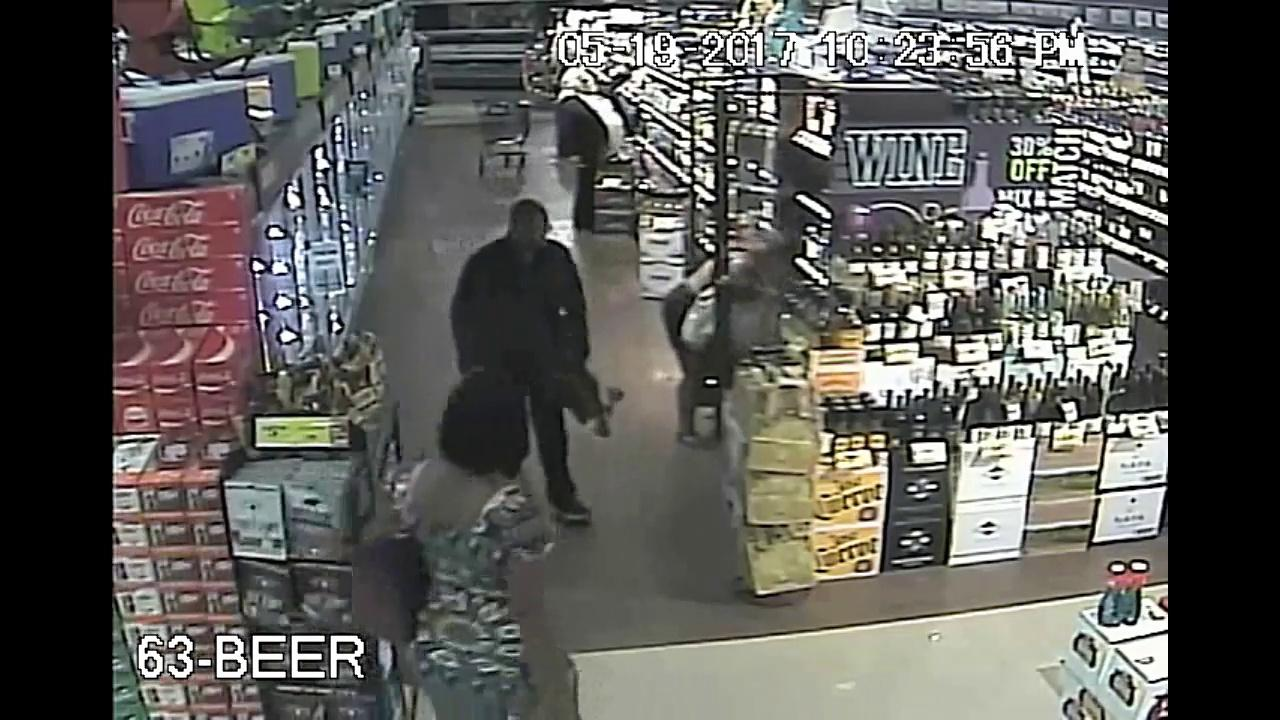3: (333, 369, 583, 720), (420, 156, 592, 497), (649, 182, 821, 477), (543, 50, 612, 134)
persone: (340, 540, 440, 649), (682, 274, 786, 346)
